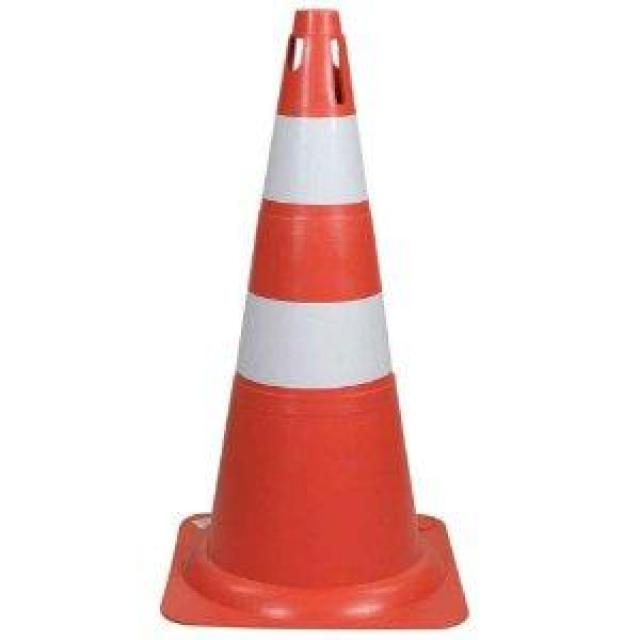cone: (152, 7, 478, 634)
